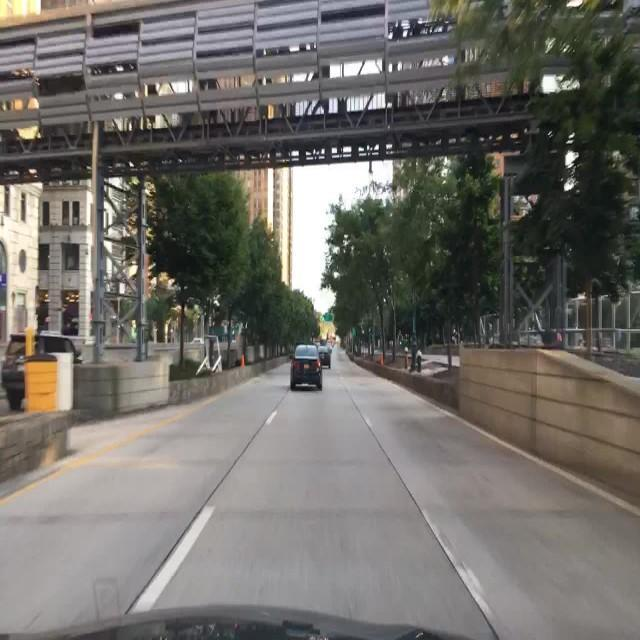normal: (287, 323, 367, 396)
